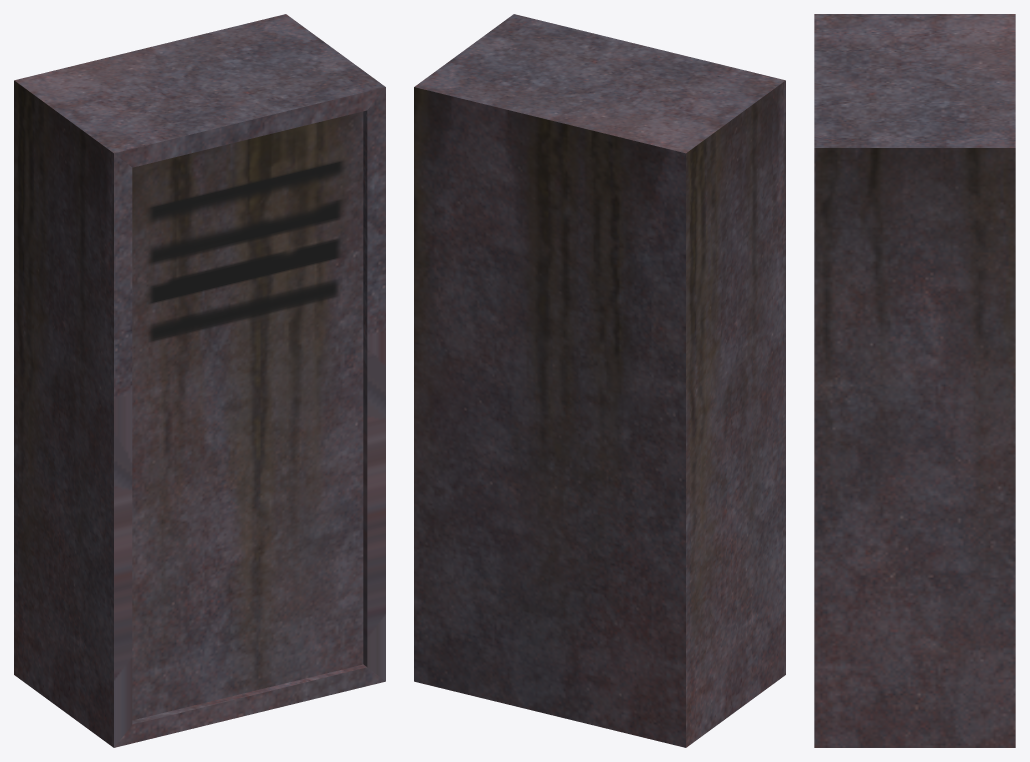
Rendered from locker.fbx.
3 views of the same model, side by side, from view 1: azimuth 30°, elevation 25°; view 2: azimuth 150°, elevation 25°; view 3: azimuth 270°, elevation 25° (orthographic).
Visible parts, largest first — view 1: Cube.005; view 2: Cube.005; view 3: Cube.005.
Boxes of the visible parts, left/top/right/bottom form: Cube.005: left=14, top=14, right=385, bottom=747; Cube.005: left=414, top=14, right=785, bottom=747; Cube.005: left=814, top=14, right=1015, bottom=747.
Size of the model in its own units: 128 by 268 by 81.51.
Materials: 1 (1 with a texture image).
